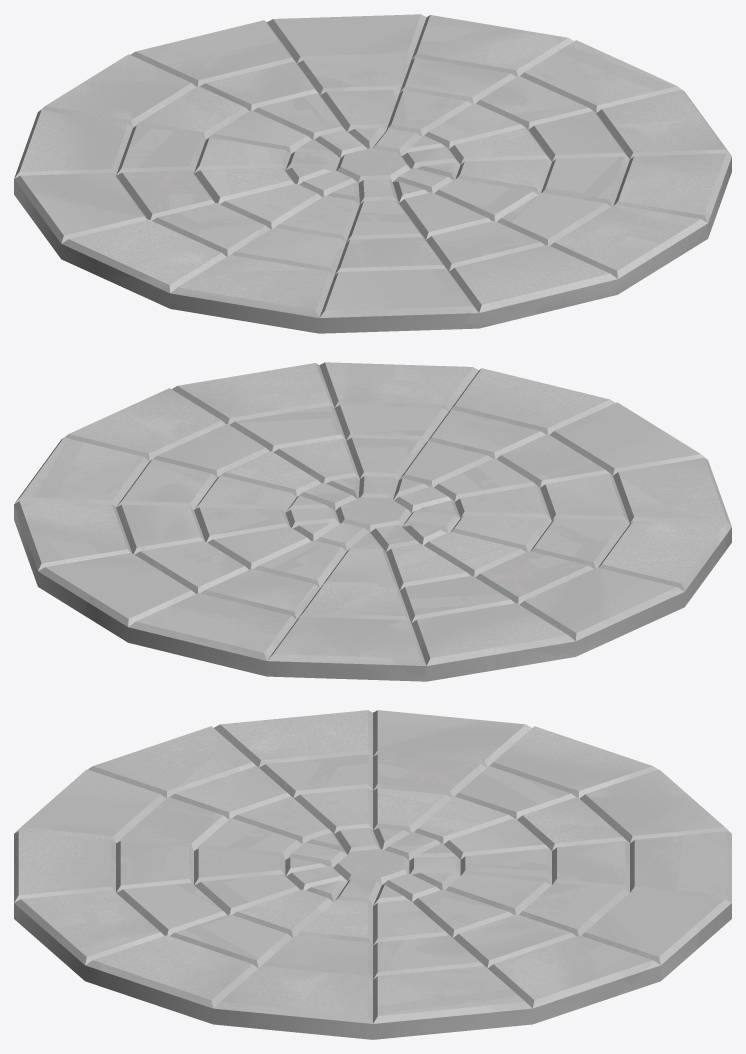
The model's file is circlestone.fbx.
3 views of the same model, one above another, from view 1: azimuth 30°, elevation 25°; view 2: azimuth 150°, elevation 25°; view 3: azimuth 270°, elevation 25° (orthographic). The views are drawn at different scales.
Visible parts, largest first — view 1: Cylinder011; view 2: Cylinder011; view 3: Cylinder011.
Part boxes in pixels (bbox=[...]): Cylinder011: bbox=[14, 14, 731, 333]; Cylinder011: bbox=[14, 362, 731, 681]; Cylinder011: bbox=[14, 710, 731, 1039].
Size of the model in its own units: 186 by 5.88 by 181.
